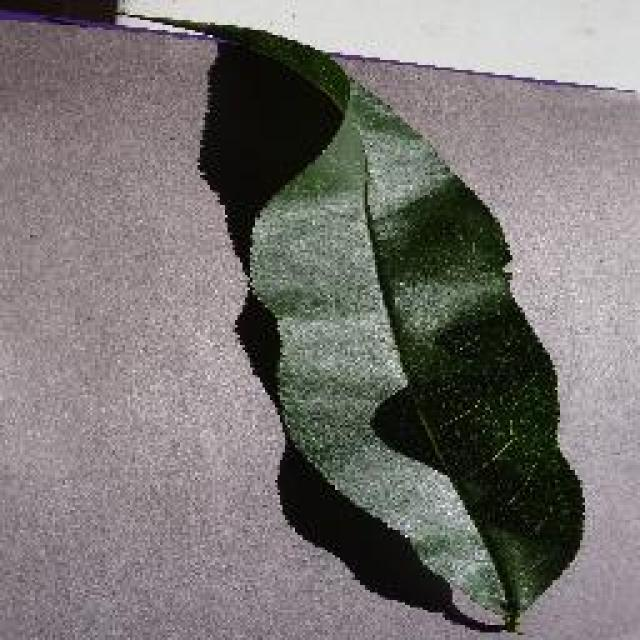Pea_healthy: (252, 49, 578, 549)
